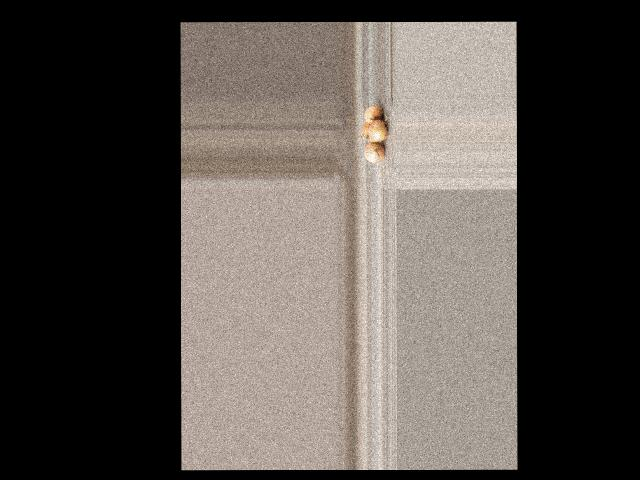onion: (360, 120, 375, 139)
